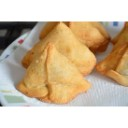samosa: (19, 43, 91, 100), (21, 23, 96, 75)
